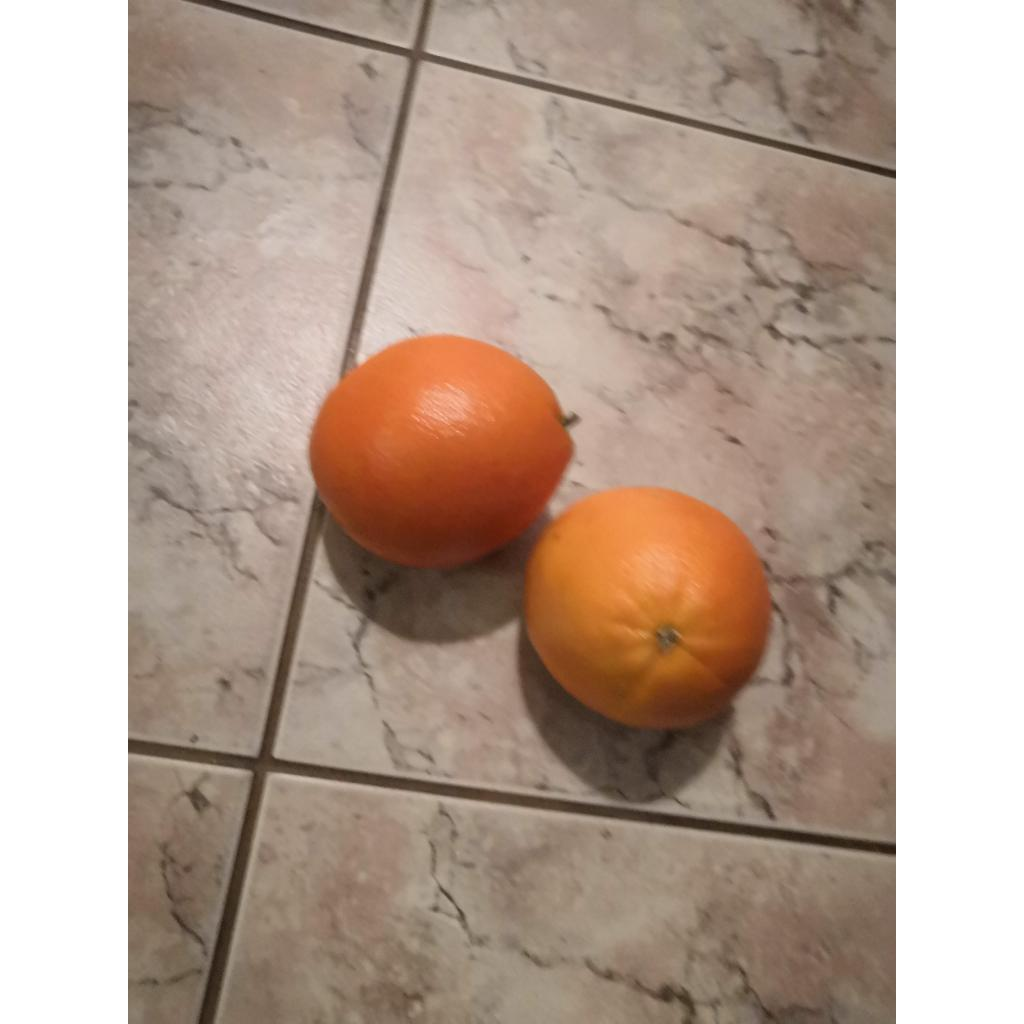orange: (310, 336, 574, 568), (524, 486, 770, 730)
